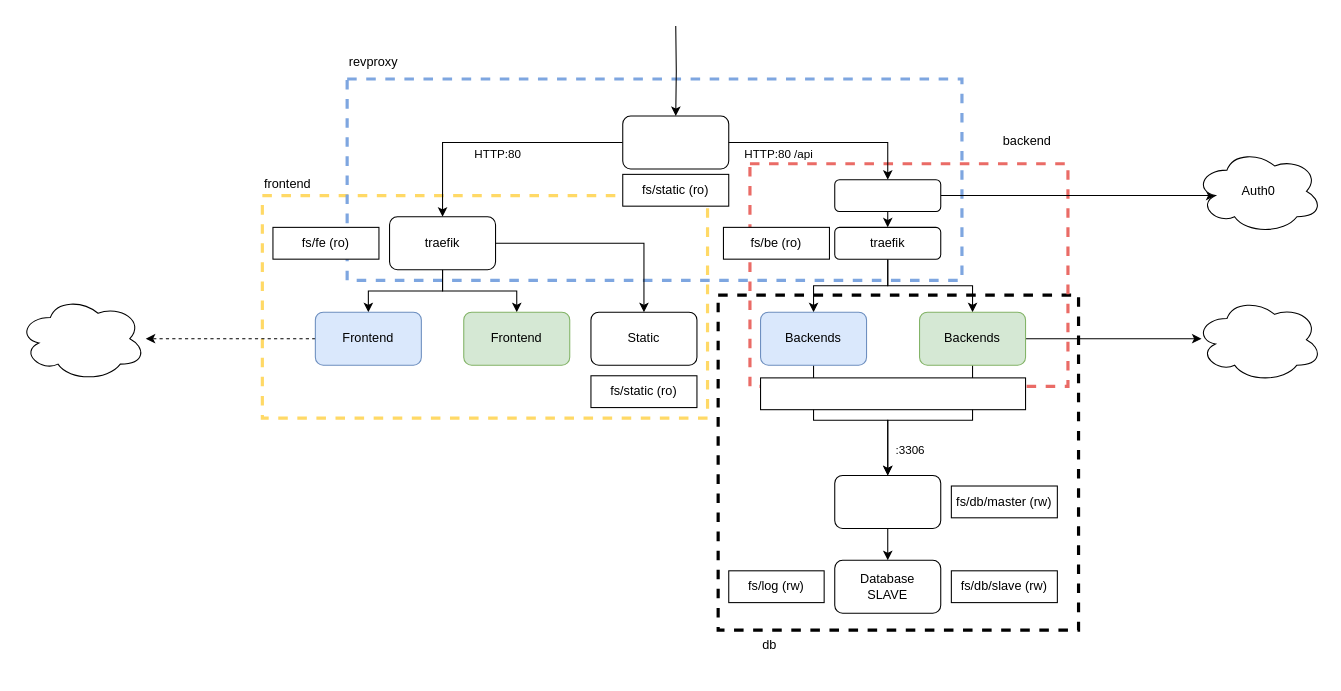
Some shapes in this 1341 by 691 pixel diagram are drawn without their labels. The shapes that lost their labels are listed below. From the top down, each one's centre as x and y in pixels, then its label:
[675,142]: LoadBalancer Nginx
[887,195]: ApiGTW krakenD
[81,338]: Analytis
[1258,339]: stripe zoom gcal
[892,393]: fs/generated (ro)
[887,501]: Database MASTER
